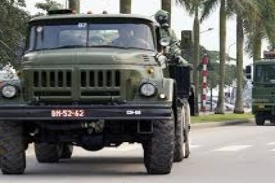plate: (48, 108, 83, 119)
